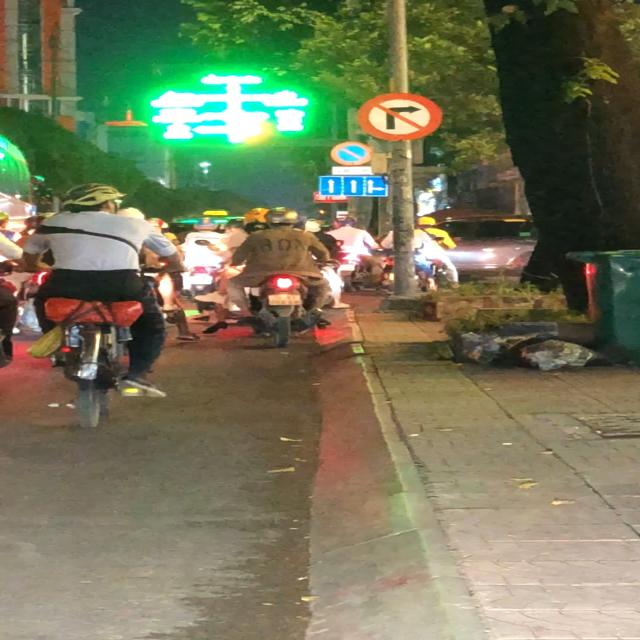Bien bao cam re phai: (355, 93, 446, 141)
